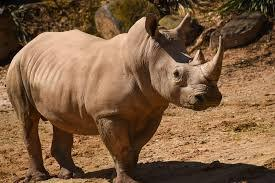Rhinoceroses: (6, 13, 222, 182)
